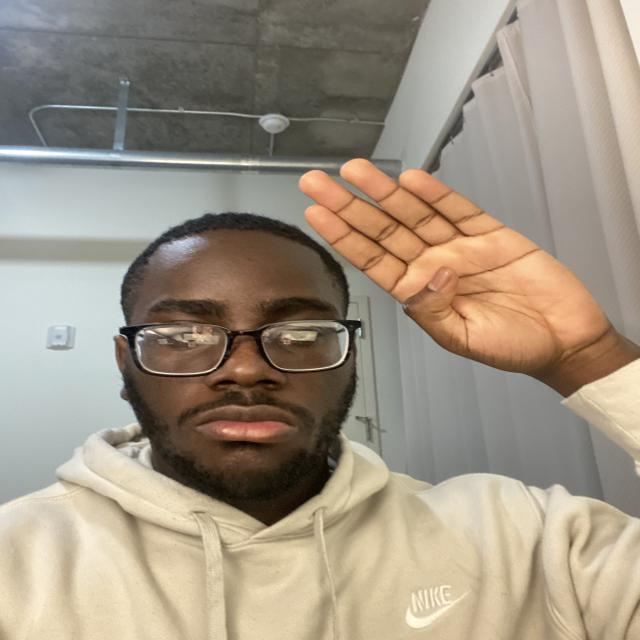Hello: (294, 141, 567, 434)
